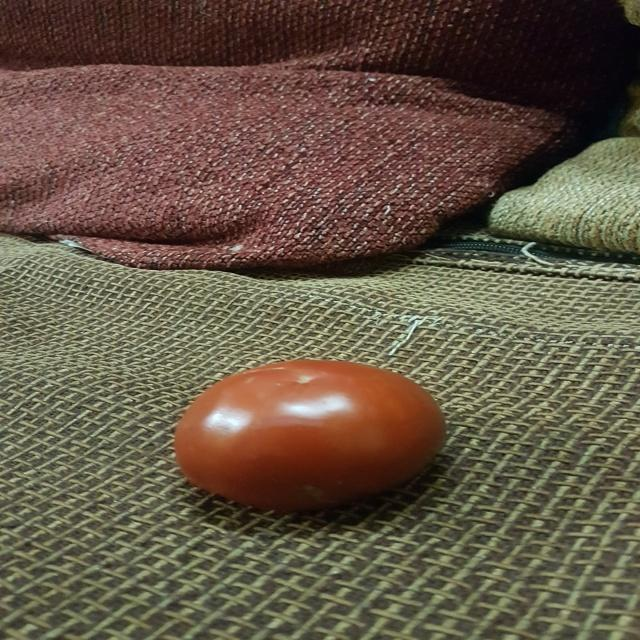tomato: (168, 356, 455, 509)
